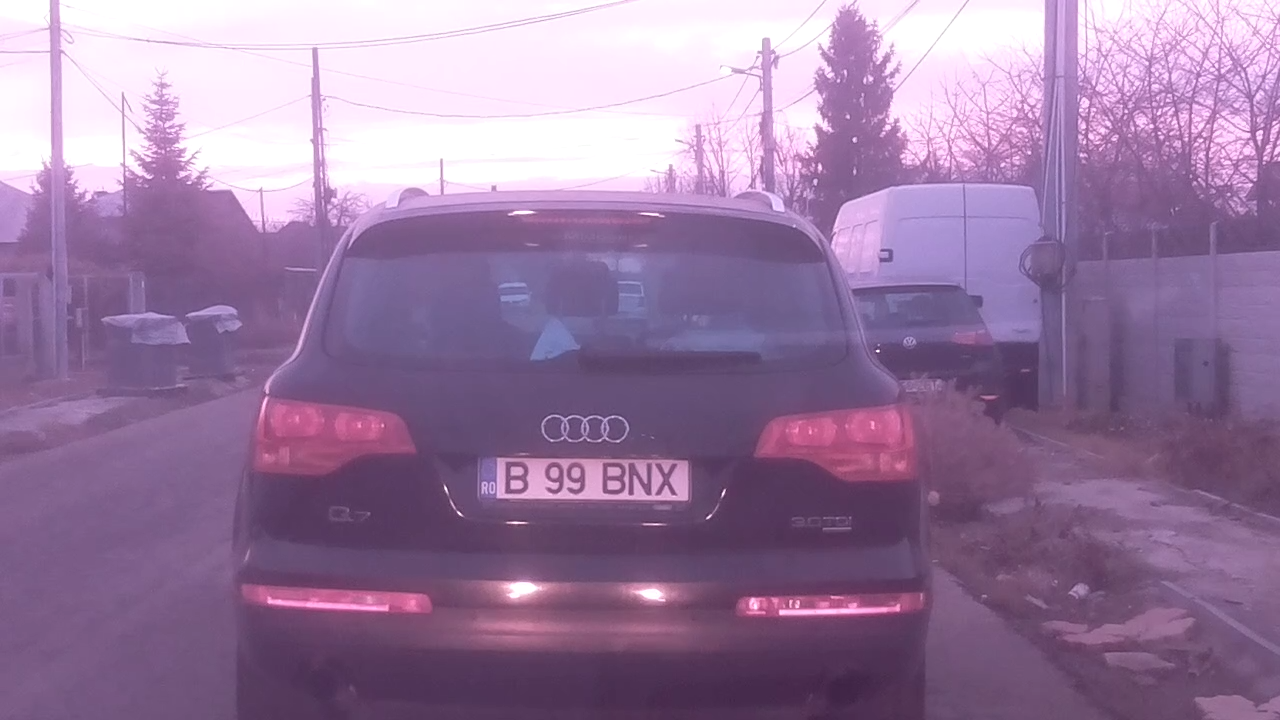license-plate: (468, 448, 703, 509)
